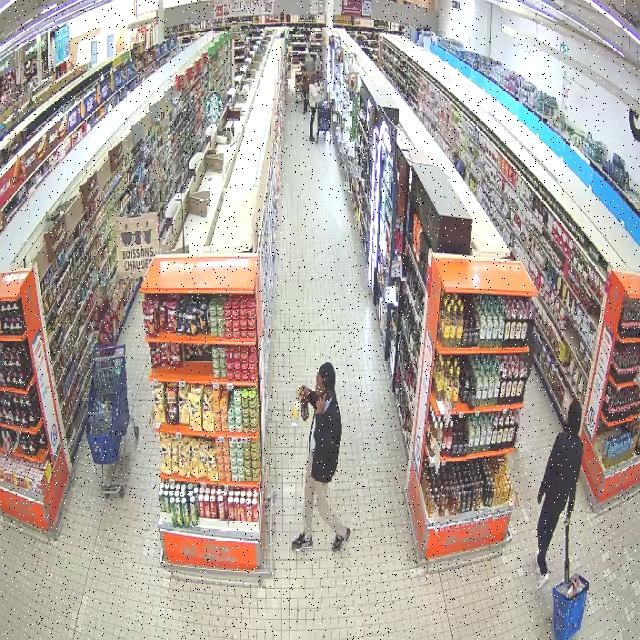article: (290, 386, 302, 427), (301, 384, 309, 420)
hands: (316, 396, 324, 414), (300, 386, 309, 402), (564, 516, 569, 525), (538, 497, 542, 504)
person: (292, 362, 350, 551), (535, 400, 583, 588), (94, 286, 115, 346)
